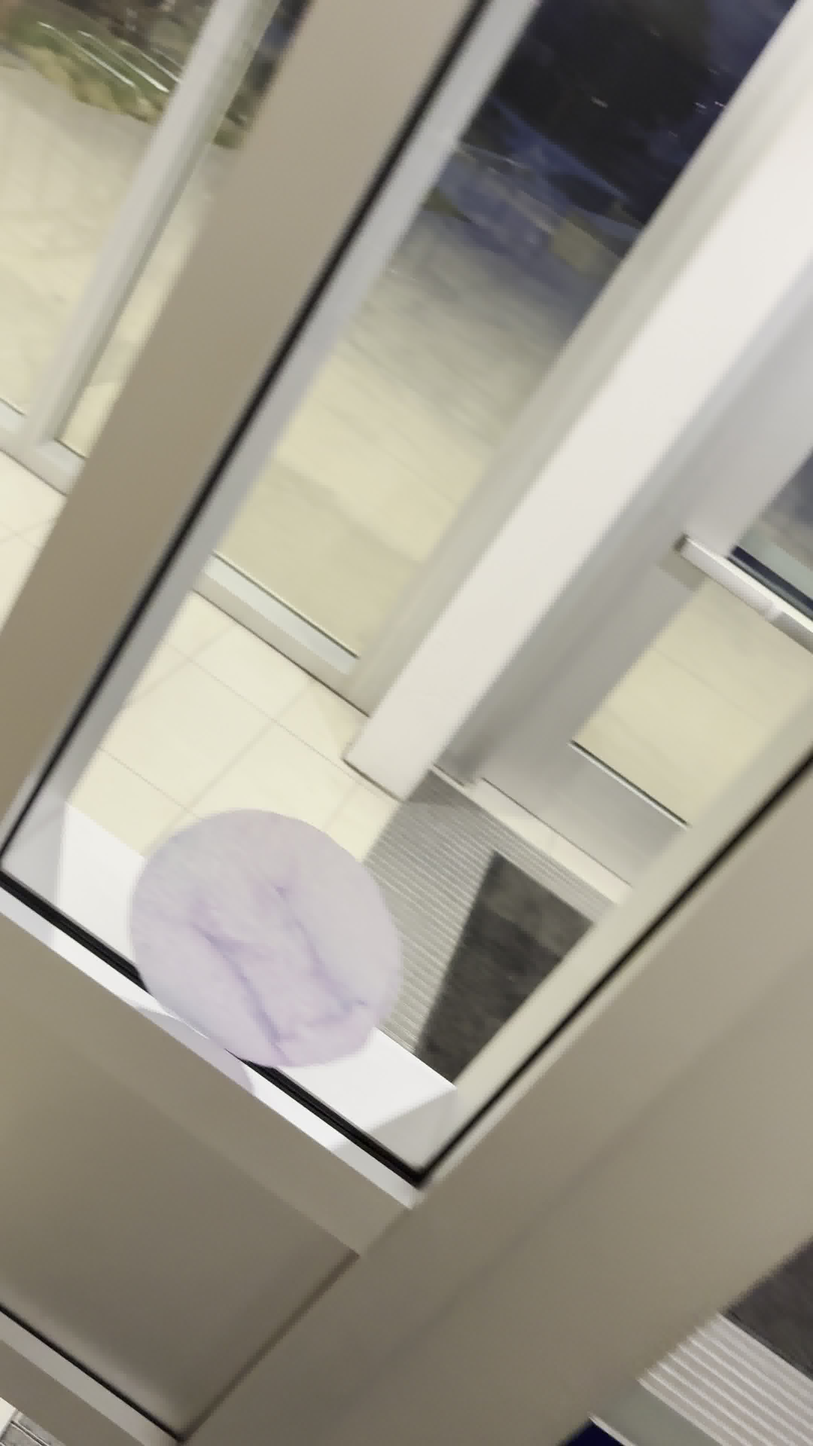Target: (122, 805, 407, 1071)
